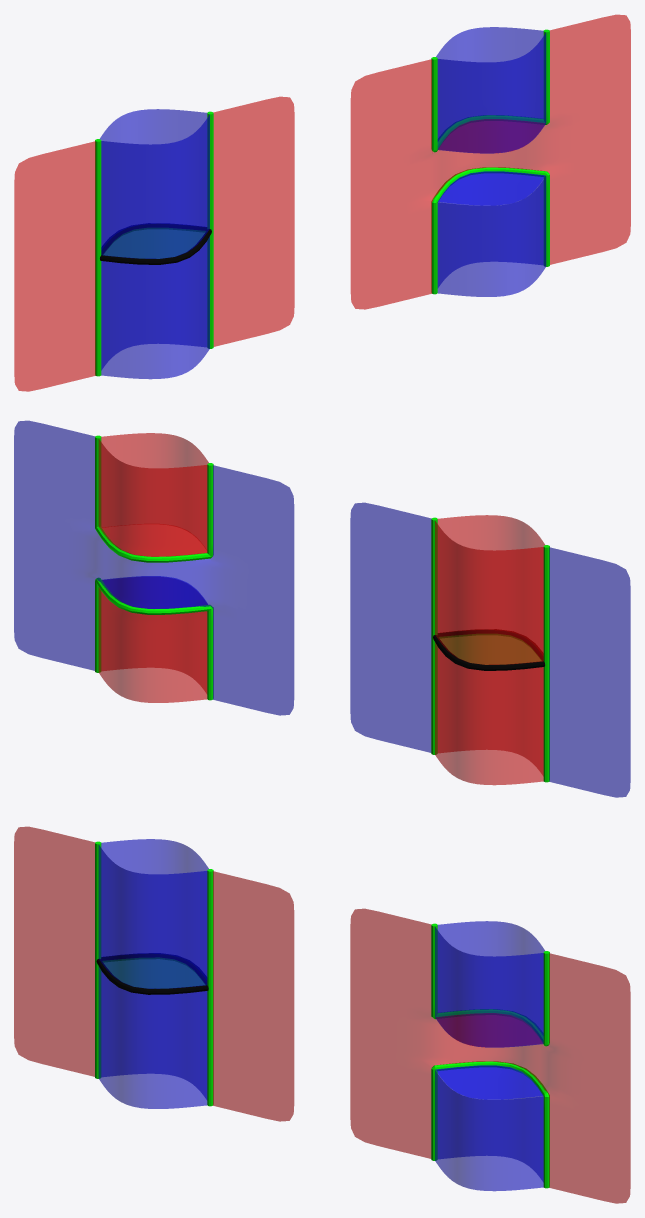
Rendered from 2compression.glb.
The picture shows the model from 3 angles, top to bottom: view 1: azimuth 30°, elevation 25°; view 2: azimuth 150°, elevation 25°; view 3: azimuth 330°, elevation 25°; orthographic projection.
Visible parts, largest first — view 1: Plane.001, Plane, singular_locus.001, singular_locus, comp_disk, intersection; view 2: Plane, Plane.001, singular_locus.001, singular_locus, comp_disk, intersection; view 3: Plane.001, Plane, singular_locus.001, singular_locus, comp_disk, intersection.
Boxes of the visible parts, x1=… form: Plane.001: x1=350, y1=14, x2=630, y2=309; Plane: x1=14, y1=96, x2=294, y2=391; singular_locus.001: x1=431, y1=29, x2=549, y2=294; singular_locus: x1=95, y1=111, x2=213, y2=376; comp_disk: x1=103, y1=228, x2=205, y2=258; intersection: x1=100, y1=223, x2=211, y2=264; Plane: x1=350, y1=502, x2=630, y2=797; Plane.001: x1=14, y1=420, x2=294, y2=715; singular_locus.001: x1=95, y1=435, x2=213, y2=700; singular_locus: x1=431, y1=517, x2=549, y2=782; comp_disk: x1=439, y1=634, x2=541, y2=664; intersection: x1=433, y1=629, x2=544, y2=670; Plane.001: x1=350, y1=908, x2=630, y2=1203; Plane: x1=14, y1=826, x2=294, y2=1121; singular_locus.001: x1=431, y1=923, x2=549, y2=1188; singular_locus: x1=95, y1=841, x2=213, y2=1106; comp_disk: x1=103, y1=958, x2=204, y2=987; intersection: x1=96, y1=953, x2=208, y2=994.
Size of the model in its own units: 11 by 4 by 1.43.
